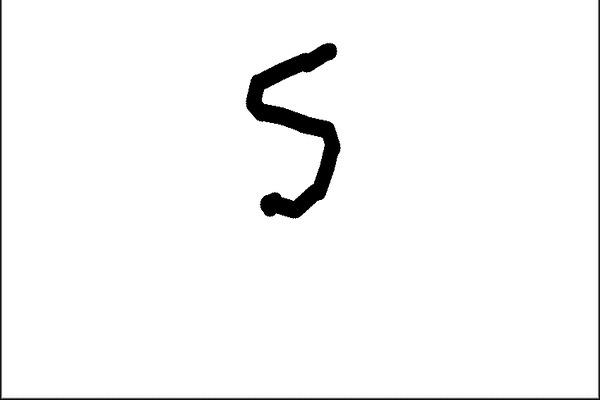S: (228, 39, 357, 230)
